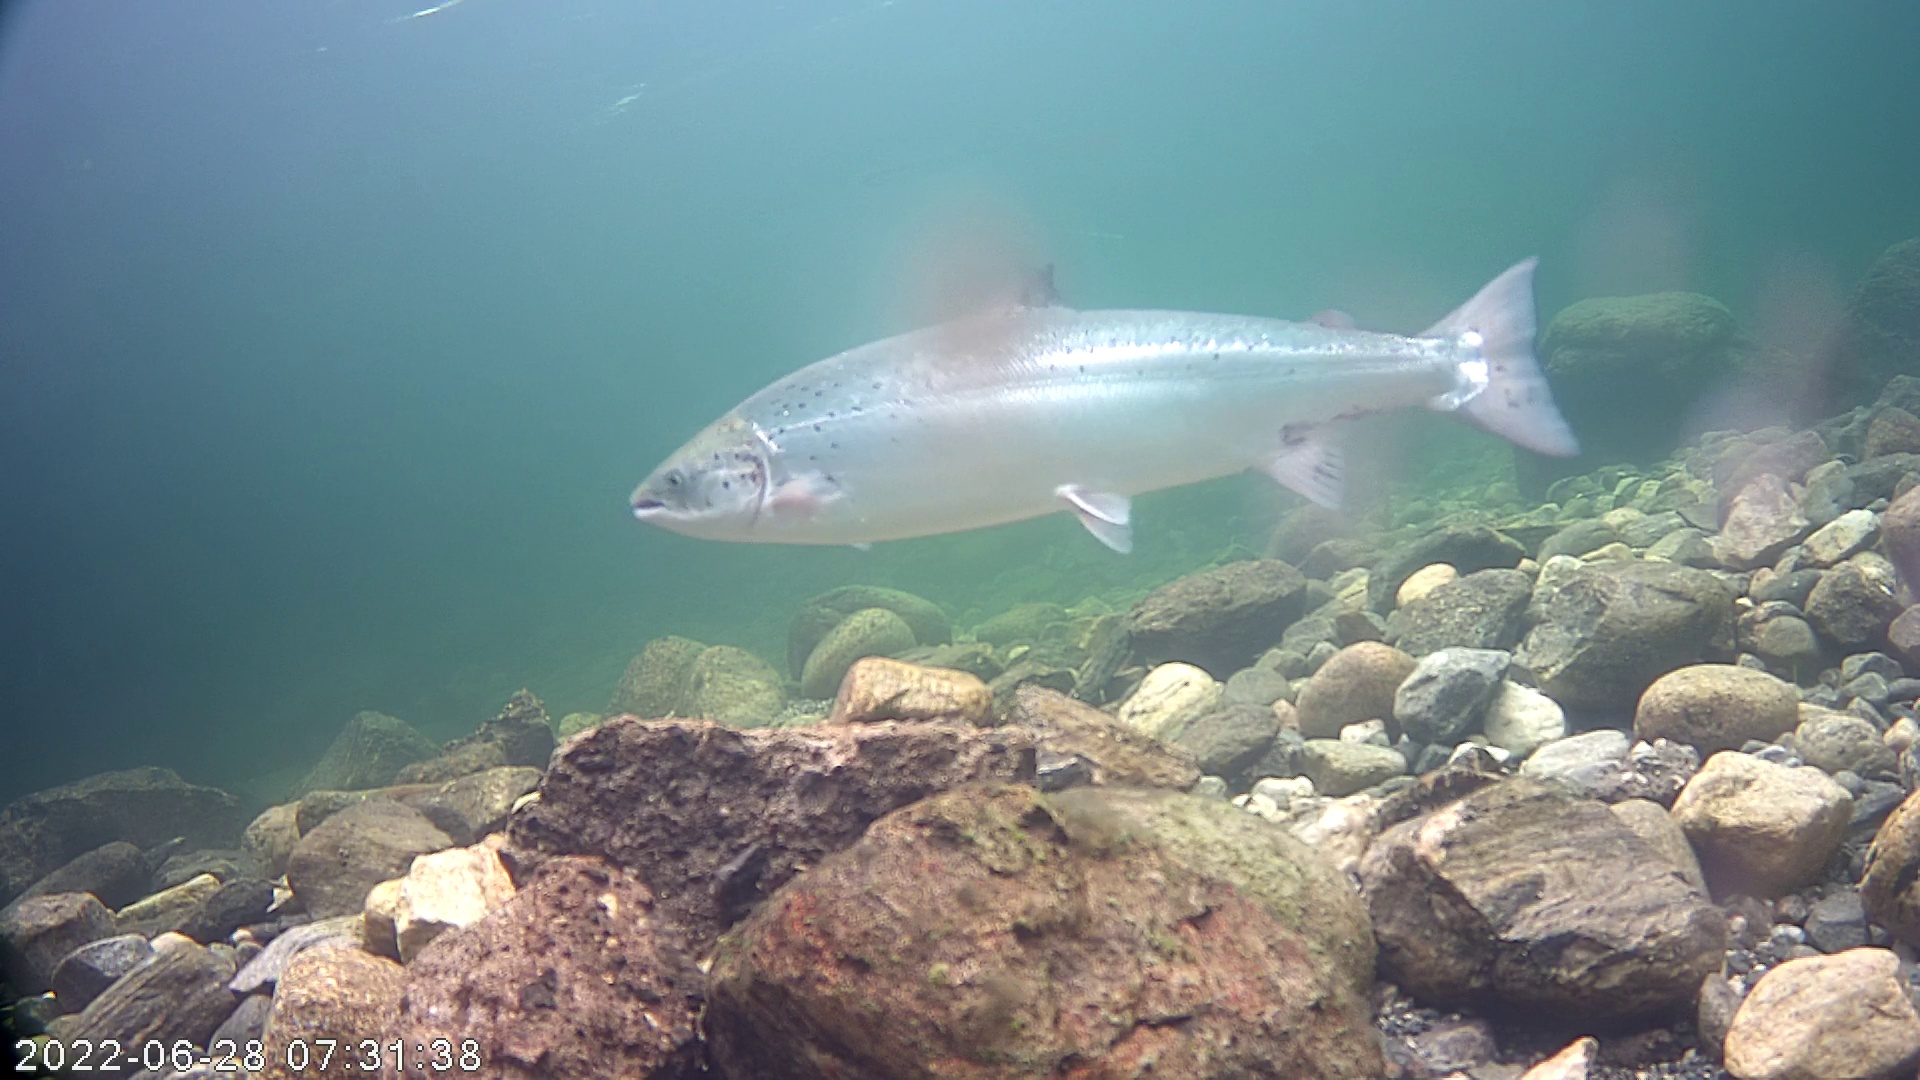salmon: (618, 127, 1600, 616)
